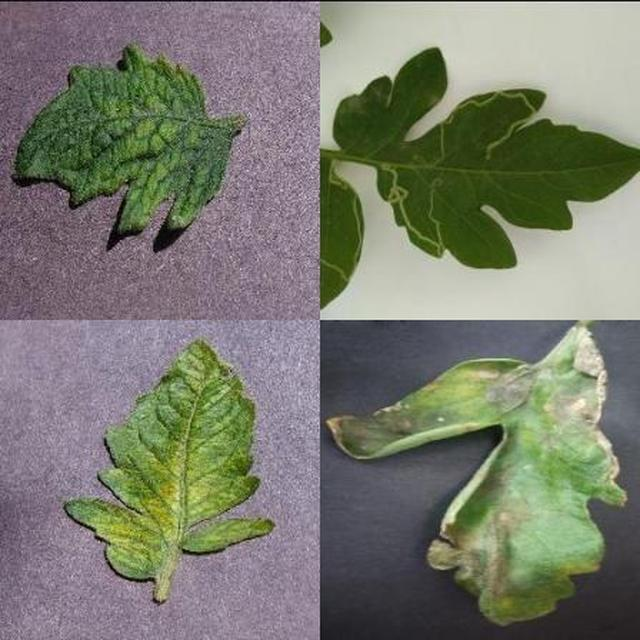Mosaic Virus Leaf: (171, 199, 640, 640)
